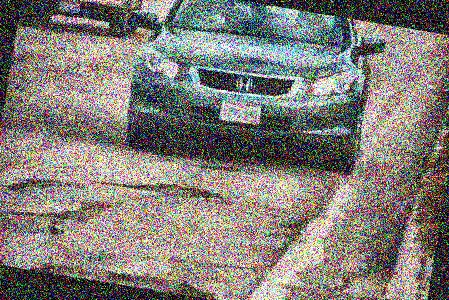pothole: (33, 256, 223, 300), (140, 177, 228, 210)
